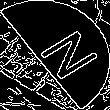N_SW: (18, 24, 92, 86)
